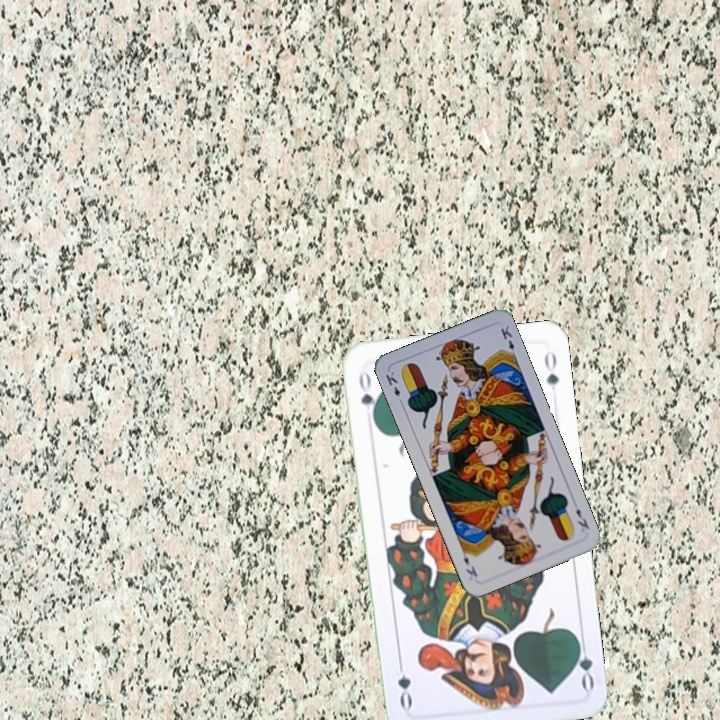EK: (381, 367, 406, 407), (572, 504, 592, 532)
GO: (569, 633, 597, 692), (355, 368, 380, 424)
